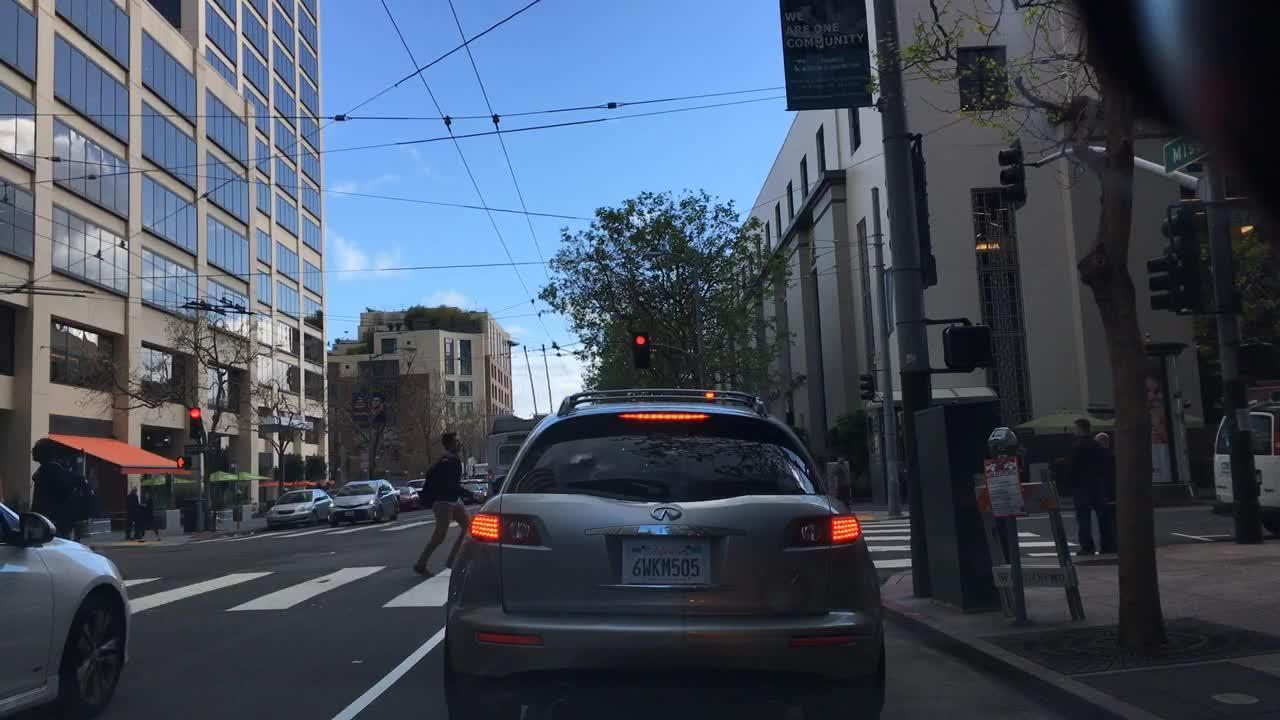Infiniti: (646, 501, 686, 526)
